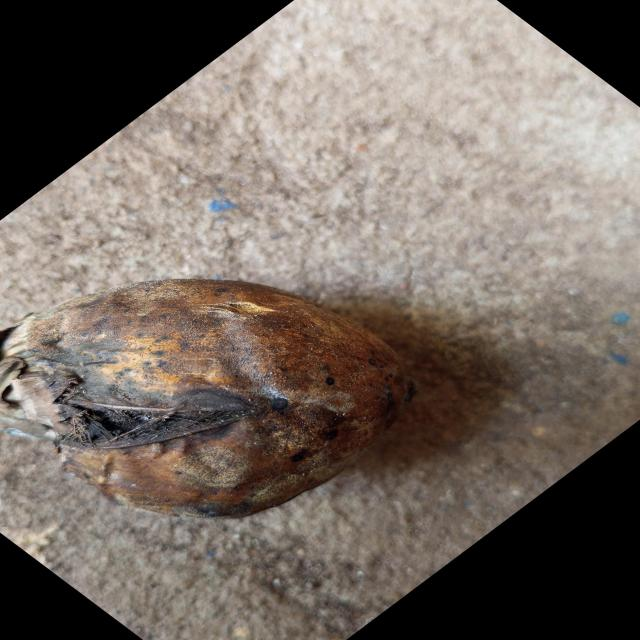damaged: (0, 279, 415, 518)
